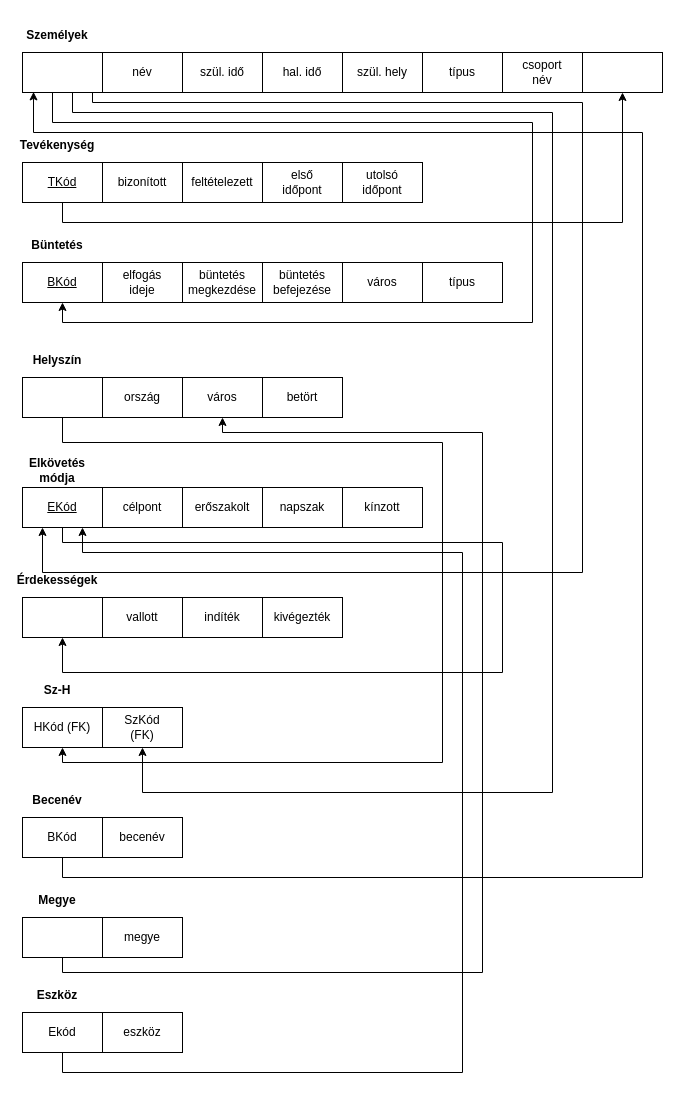
This 680x1098 diagram has some shape labels left out. Each missing label, with the centre of its shape:
HKód: the point at 62,397
SzKód: the point at 62,72
TKód (FK): the point at 622,72
VKód: the point at 62,937
ÉKód: the point at 62,617
